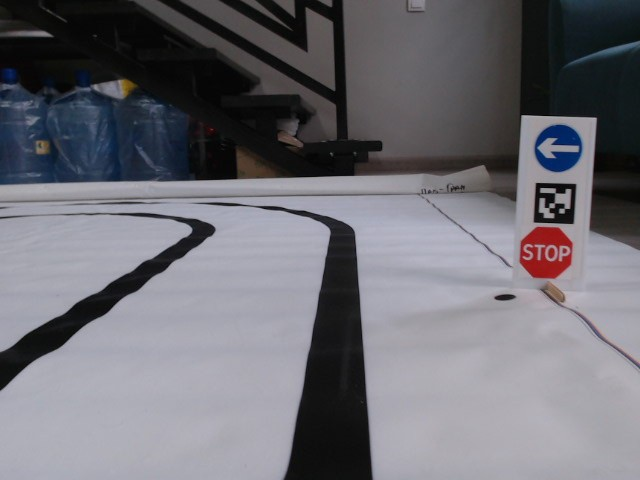Stop: (519, 225, 573, 280)
